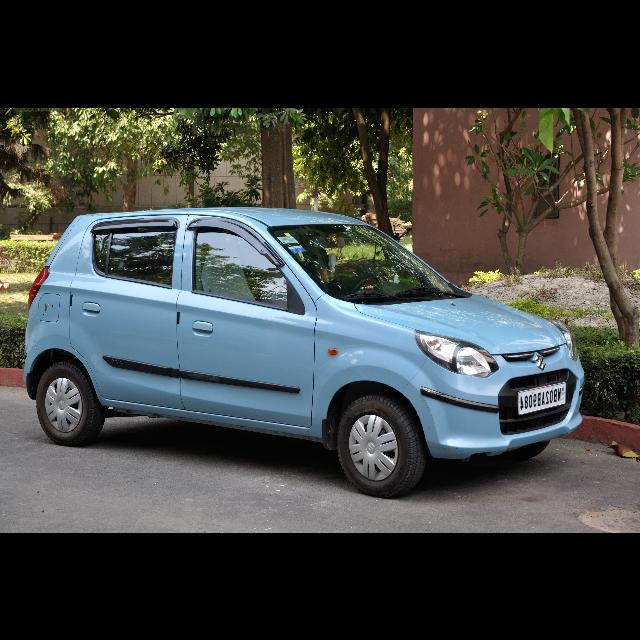number-plate: (518, 380, 568, 414)
vehicles: (21, 209, 581, 494)
